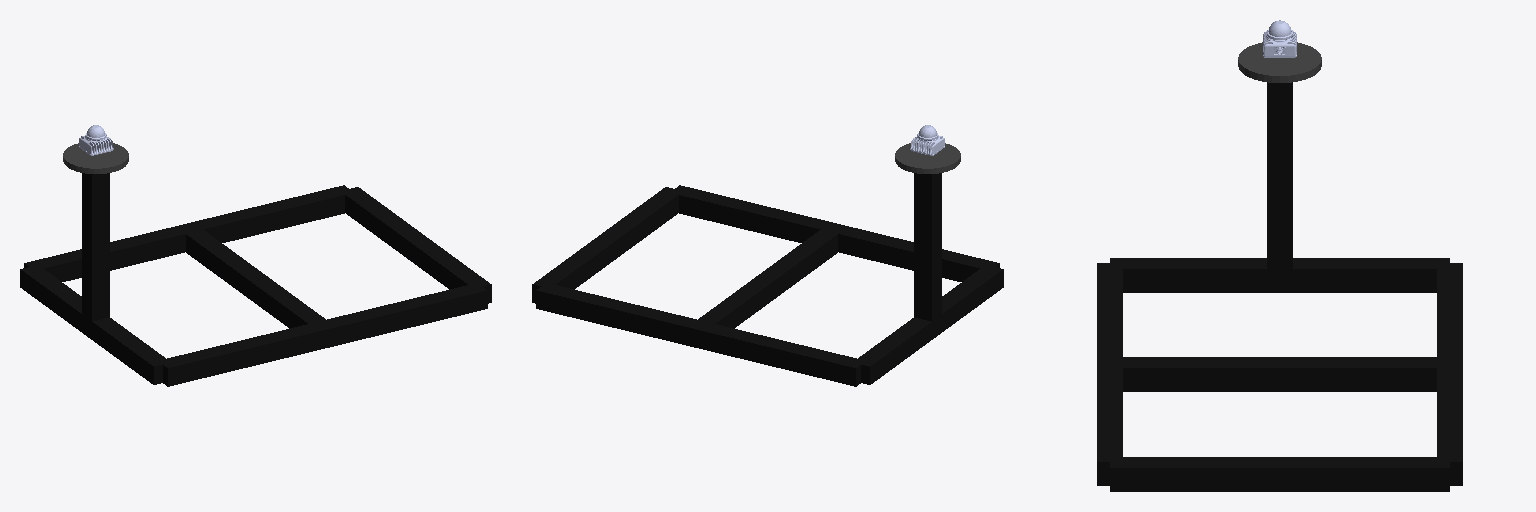
The robot description file, URDF, robot "amiga_robot":
<?xml version="1.0"?>
<robot name="amiga_robot">

  <!-- Base link (center of robot frame) -->
  <link name="base_link">
    <!-- Front beam (left-right across front) -->
    <visual>
      <origin xyz="0.45 0 0.0" rpy="0 0 1.5708"/>
      <geometry>
        <box size="0.65 0.05 0.05"/>
      </geometry>
      <material name="black">
        <color rgba="0.1 0.1 0.1 1"/>
      </material>
    </visual>
    
    <!-- Rear beam -->
    <visual>
      <origin xyz="-0.45 0 0.0" rpy="0 0 1.5708"/>
      <geometry>
        <box size="0.65 0.05 0.05"/>
      </geometry>
      <material name="black"/>
    </visual>
    
    <!-- Left longitudinal beam -->
    <visual>
      <origin xyz="0 0.325 0.0" rpy="0 0 0"/>
      <geometry>
        <box size="0.9 0.05 0.05"/>
      </geometry>
      <material name="black"/>
    </visual>
    
    <!-- Right longitudinal beam -->
    <visual>
      <origin xyz="0 -0.325 0.0" rpy="0 0 0"/>
      <geometry>
        <box size="0.9 0.05 0.05"/>
      </geometry>
      <material name="black"/>
    </visual>
    
    <!-- Center cross beam -->
    <visual>
      <origin xyz="0 0 0.0" rpy="0 0 1.5708"/>
      <geometry>
        <box size="0.65 0.05 0.05"/>
      </geometry>
      <material name="black"/>
    </visual>
  </link>


  <!-- Front Left Wheel Assembly -->
  <link name="front_left_wheel">
    <visual>
      <origin xyz="0 0 0" rpy="1.5708 0 0"/>
      <geometry>
        <mesh filename="package://fast_lio/meshes/wheel_assembly.stl" scale="0.001 0.001 0.001"/>
      </geometry>
      <material name="mixed">
        <color rgba="0.6 0.6 0.6 1"/>
      </material>
    </visual>
    <collision>
      <origin xyz="0 0 0" rpy="1.5708 0 0"/>
      <geometry>
        <cylinder radius="0.165" length="0.12"/>
      </geometry>
    </collision>
    <inertial>
      <mass value="10"/>
      <inertia ixx="0.15" ixy="0" ixz="0" iyy="0.15" iyz="0" izz="0.2"/>
    </inertial>
  </link>
  
  <joint name="front_left_wheel_joint" type="continuous">
    <parent link="base_link"/>
    <child link="front_left_wheel"/>
    <origin xyz="0.4 0.325 0.0" rpy="0 0 0"/>
    <axis xyz="0 1 0"/>
  </joint>


  <!-- Front Right Wheel Assembly -->
  <link name="front_right_wheel">
    <visual>
      <origin xyz="0 0 0" rpy="1.5708 0 0"/>
      <geometry>
        <mesh filename="package://fast_lio/meshes/wheel_assembly.stl" scale="0.001 0.001 0.001"/>
      </geometry>
      <material name="mixed"/>
    </visual>
    <collision>
      <origin xyz="0 0 0" rpy="1.5708 0 0"/>
      <geometry>
        <cylinder radius="0.165" length="0.12"/>
      </geometry>
    </collision>
    <inertial>
      <mass value="10"/>
      <inertia ixx="0.15" ixy="0" ixz="0" iyy="0.15" iyz="0" izz="0.2"/>
    </inertial>
  </link>
  
  <joint name="front_right_wheel_joint" type="continuous">
    <parent link="base_link"/>
    <child link="front_right_wheel"/>
    <origin xyz="0.4 -0.325 0.0" rpy="0 0 0"/>
    <axis xyz="0 1 0"/>
  </joint>


  <!-- Rear Left Wheel Assembly -->
  <link name="rear_left_wheel">
    <visual>
      <origin xyz="0 0 0" rpy="1.5708 0 0"/>
      <geometry>
        <mesh filename="package://fast_lio/meshes/wheel_assembly.stl" scale="0.001 0.001 0.001"/>
      </geometry>
      <material name="mixed"/>
    </visual>
    <collision>
      <origin xyz="0 0 0" rpy="1.5708 0 0"/>
      <geometry>
        <cylinder radius="0.165" length="0.12"/>
      </geometry>
    </collision>
    <inertial>
      <mass value="10"/>
      <inertia ixx="0.15" ixy="0" ixz="0" iyy="0.15" iyz="0" izz="0.2"/>
    </inertial>
  </link>
  
  <joint name="rear_left_wheel_joint" type="continuous">
    <parent link="base_link"/>
    <child link="rear_left_wheel"/>
    <origin xyz="-0.4 0.325 0.0" rpy="0 0 0"/>
    <axis xyz="0 1 0"/>
  </joint>


  <!-- Rear Right Wheel Assembly -->
  <link name="rear_right_wheel">
    <visual>
      <origin xyz="0 0 0" rpy="1.5708 0 0"/>
      <geometry>
        <mesh filename="package://fast_lio/meshes/wheel_assembly.stl" scale="0.001 0.001 0.001"/>
      </geometry>
      <material name="mixed"/>
    </visual>
    <collision>
      <origin xyz="0 0 0" rpy="1.5708 0 0"/>
      <geometry>
        <cylinder radius="0.165" length="0.12"/>
      </geometry>
    </collision>
    <inertial>
      <mass value="10"/>
      <inertia ixx="0.15" ixy="0" ixz="0" iyy="0.15" iyz="0" izz="0.2"/>
    </inertial>
  </link>
  
  <joint name="rear_right_wheel_joint" type="continuous">
    <parent link="base_link"/>
    <child link="rear_right_wheel"/>
    <origin xyz="-0.4 -0.325 0.0" rpy="0 0 0"/>
    <axis xyz="0 1 0"/>
  </joint>


  <!-- ========== LIDAR MOUNTING STRUCTURE ========== -->
  
  <!-- Vertical mounting beam extending upward from rear crossbeam -->
  <link name="lidar_vertical_mount">
    <visual>
      <origin xyz="0 0 0" rpy="0 0 0"/>
      <geometry>
        <box size="0.05 0.05 0.45"/>
      </geometry>
      <material name="black">
        <color rgba="0.1 0.1 0.1 1"/>
      </material>
    </visual>
    <collision>
      <origin xyz="0 0 0" rpy="0 0 0"/>
      <geometry>
        <box size="0.05 0.05 0.45"/>
      </geometry>
    </collision>
    <inertial>
      <mass value="1.5"/>
      <inertia ixx="0.02" ixy="0" ixz="0" iyy="0.02" iyz="0" izz="0.001"/>
    </inertial>
  </link>
  
  <joint name="rear_beam_to_lidar_mount" type="fixed">
    <parent link="base_link"/>
    <child link="lidar_vertical_mount"/>
    <origin xyz="-0.45 0 0.225" rpy="0 0 0"/>
  </joint>
  
  <!-- Horizontal mounting plate at top of vertical beam -->
  <link name="lidar_mount_plate">
    <visual>
      <origin xyz="0 0 0" rpy="0 0 0"/>
      <geometry>
        <cylinder radius="0.08" length="0.015"/>
      </geometry>
      <material name="mount_plate">
        <color rgba="0.3 0.3 0.3 1"/>
      </material>
    </visual>
    <collision>
      <origin xyz="0 0 0" rpy="0 0 0"/>
      <geometry>
        <cylinder radius="0.08" length="0.015"/>
      </geometry>
    </collision>
    <inertial>
      <mass value="0.3"/>
      <inertia ixx="0.001" ixy="0" ixz="0" iyy="0.001" iyz="0" izz="0.001"/>
    </inertial>
  </link>
  
  <joint name="vertical_mount_to_plate" type="fixed">
    <parent link="lidar_vertical_mount"/>
    <child link="lidar_mount_plate"/>
    <origin xyz="0 0 0.225" rpy="0 0 0"/>
  </joint>


  <!-- ========== REAL MID-360 LIDAR SENSOR ========== -->
  <link name="lidar_link">
    <!-- Real inertial properties from MID-360 CAD -->
    <inertial>
      <origin xyz="0.000199568207551269 -0.00388540916609674 -6.3423428515155E-06" rpy="0 0 0"/>
      <mass value="0.14188726736057"/>
      <inertia 
        ixx="4.17976993084157E-05"
        ixy="-3.05313915244018E-07"
        ixz="5.48662674188819E-09"
        iyy="6.87997791000628E-05"
        iyz="-4.59347653576492E-10"
        izz="4.50773096258266E-05"/>
    </inertial>
    
    <!-- Visual: MID-360 mesh -->
    <visual>
      <origin xyz="0 0 0" rpy="0 0 0"/>
      <geometry>
        <mesh filename="package://fast_lio/meshes/lidar_link.STL"/>
      </geometry>
      <material name="lidar_gray">
        <color rgba="0.792 0.820 0.933 1"/>
      </material>
    </visual>
    
    <!-- Collision: MID-360 mesh (or simplified) -->
    <collision>
      <origin xyz="0 0 0" rpy="0 0 0"/>
      <geometry>
        <!-- Use actual mesh for accurate collision -->
        <mesh filename="package://fast_lio/meshes/lidar_link.STL"/>
        <!-- OR use simplified collision (faster simulation): -->
        <!-- <cylinder radius="0.05" length="0.08"/> -->
      </geometry>
    </collision>
  </link>
  
  <joint name="lidar_joint" type="fixed">
    <parent link="lidar_mount_plate"/>
    <child link="lidar_link"/>
    <origin xyz="0 0 0.05" rpy="0 0 0"/>
  </joint>

</robot>

--- What the picture shows (computed from the rendered views, not written in the file) ---
Views: 3 orthographic renders of the robot side by side, from view 1: azimuth 30°, elevation 25°; view 2: azimuth 150°, elevation 25°; view 3: azimuth 270°, elevation 25°.
Model amiga_robot with 8 links and 7 joints (4 continuous, 3 fixed), rooted at base_link, posed all joints at 0.
Visible links, largest first — view 1: base_link, lidar_vertical_mount, lidar_mount_plate, lidar_link; view 2: base_link, lidar_vertical_mount, lidar_mount_plate, lidar_link; view 3: base_link, lidar_vertical_mount, lidar_mount_plate, lidar_link.
Boxes of the visible links, <box> form: base_link: <box>20,185,491,386</box>; lidar_vertical_mount: <box>82,173,109,329</box>; lidar_mount_plate: <box>63,143,128,173</box>; lidar_link: <box>79,125,113,155</box>; base_link: <box>532,185,1003,386</box>; lidar_vertical_mount: <box>914,173,941,329</box>; lidar_mount_plate: <box>895,143,960,173</box>; lidar_link: <box>910,125,944,155</box>; base_link: <box>1097,258,1462,491</box>; lidar_vertical_mount: <box>1267,82,1292,280</box>; lidar_mount_plate: <box>1238,42,1321,82</box>; lidar_link: <box>1263,20,1296,57</box>.
Size in the robot's own frame: 1 by 0.7 by 0.5592 metres.
Meshes: 2 distinct files referenced, 1 mesh visuals loaded (1 binary STL); not drawn: 4 (reference not matched to a file when rendering).